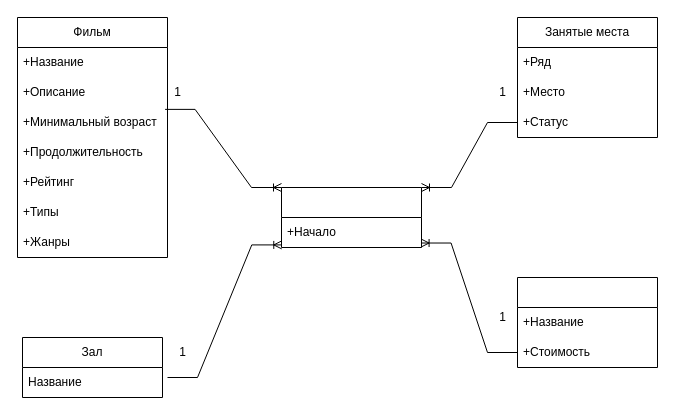
Image size: 675x415. Some labels were removed from this diagram. Here are the shapes that lost their labels. From the top down, the box of each, then its label:
(280, 186, 422, 248): Таймслот
(516, 276, 658, 368): Тариф
